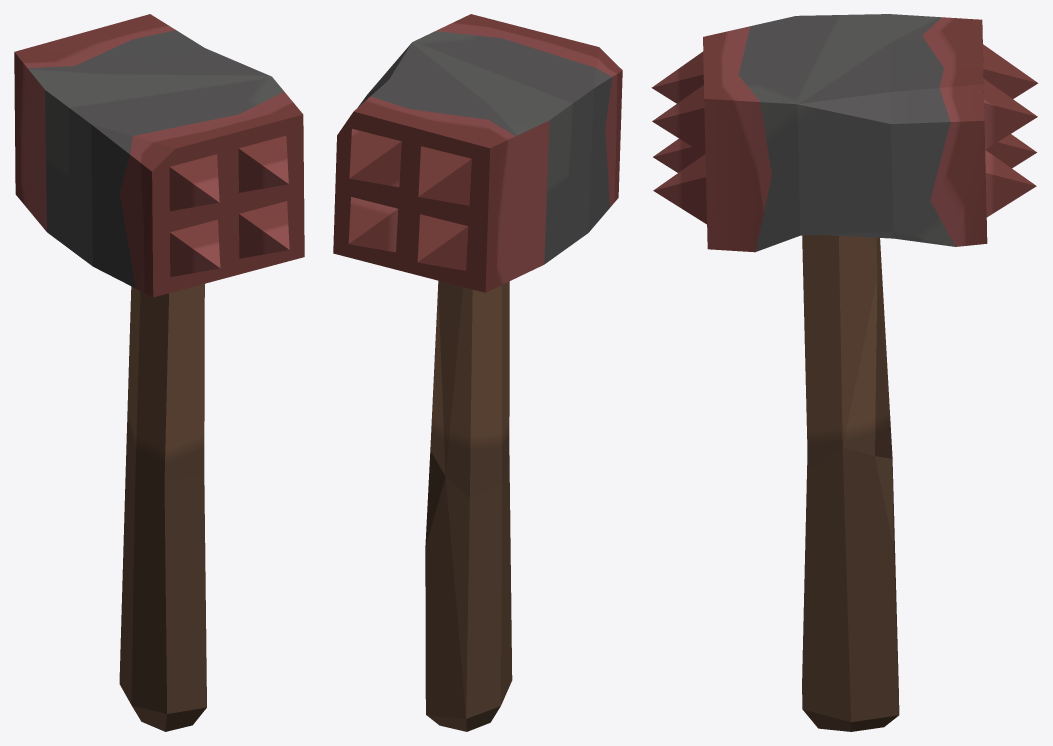
Rendered from SM_Prop_Tenderiser_01.fbx.
The picture shows the model from 3 angles, left to right: view 1: azimuth 30°, elevation 25°; view 2: azimuth 150°, elevation 25°; view 3: azimuth 270°, elevation 25°; orthographic projection. The views are drawn at different scales.
Parts seen in each view (by area): view 1: SM_Prop_Tenderiser_01; view 2: SM_Prop_Tenderiser_01; view 3: SM_Prop_Tenderiser_01.
Boxes of the visible parts, x1=… form: SM_Prop_Tenderiser_01: x1=14, y1=14, x2=304, y2=731; SM_Prop_Tenderiser_01: x1=333, y1=14, x2=622, y2=731; SM_Prop_Tenderiser_01: x1=651, y1=14, x2=1038, y2=731.
Bounding box in the file's own units: 12.95 × 42.93 × 22.71.
